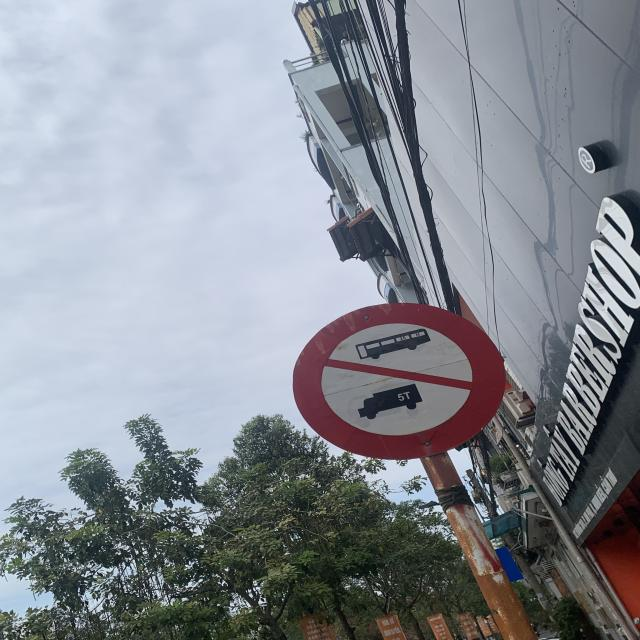Cam_XeTai_XeKhach: (291, 303, 509, 462)
